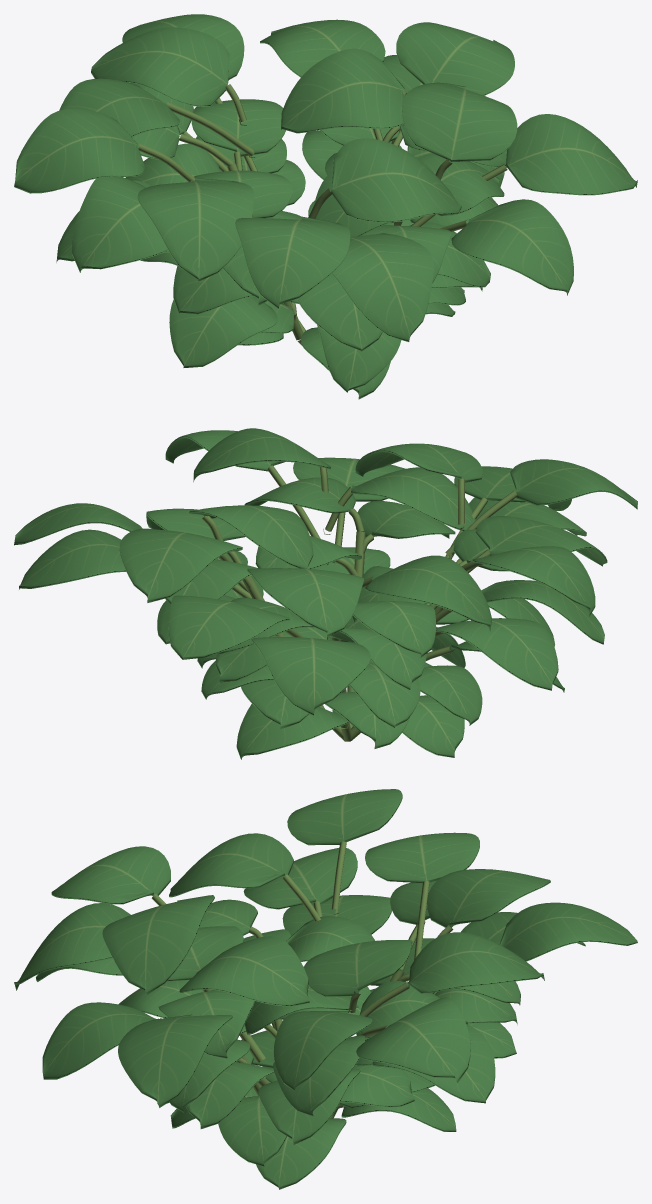
Rendered from peperomia-stage-7.glb.
3 renders of one model, top to bottom at view 1: azimuth 30°, elevation 25°; view 2: azimuth 150°, elevation 25°; view 3: azimuth 270°, elevation 25°, orthographic. The views are drawn at different scales.
Parts seen in each view (by area): view 1: Leaf_45, Leaf_50, Leaf_48, Leaf_51, Leaf_41, Leaf_49, Leaf_37, Leaf_46, Leaf_47, Leaf_32, Leaf_40, Leaf_38 (+27 smaller); view 2: Leaf_34, Leaf_43, PlantBranches, Leaf_39, Leaf_49, Leaf_35, Leaf_44, Leaf_33, Leaf_48, Leaf_42, Leaf_50, Leaf_46 (+31 smaller); view 3: Leaf_51, Leaf_37, Leaf_38, Leaf_47, Leaf_43, Leaf_39, Leaf_32, Leaf_49, Leaf_45, Leaf_46, Leaf_50, Leaf_29 (+29 smaller).
Part boxes in pixels (x1,y1,x2,y2): Leaf_45: (137, 178, 253, 281); Leaf_50: (14, 108, 145, 193); Leaf_48: (281, 48, 404, 133); Leaf_51: (331, 138, 461, 222); Leaf_41: (332, 233, 433, 341); Leaf_49: (91, 27, 229, 106); Leaf_37: (506, 114, 637, 195); Leaf_46: (235, 216, 350, 308); Leaf_47: (401, 82, 517, 161); Leaf_32: (451, 199, 573, 295); Leaf_40: (72, 177, 167, 272); Leaf_38: (396, 22, 514, 95); Leaf_34: (251, 637, 370, 715); Leaf_43: (119, 528, 242, 602); PlantBranches: (202, 465, 517, 741); Leaf_39: (168, 595, 289, 659); Leaf_49: (247, 568, 363, 636); Leaf_35: (436, 618, 558, 690); Leaf_44: (365, 555, 491, 631); Leaf_33: (19, 529, 126, 589); Leaf_48: (189, 505, 313, 568); Leaf_42: (351, 467, 475, 531); Leaf_50: (472, 546, 595, 616); Leaf_46: (510, 459, 637, 509); Leaf_51: (102, 895, 214, 994); Leaf_37: (118, 1014, 232, 1107); Leaf_38: (356, 997, 470, 1083); Leaf_47: (179, 936, 309, 1006); Leaf_43: (407, 932, 544, 993); Leaf_39: (499, 902, 637, 961); Leaf_32: (42, 1002, 158, 1079); Leaf_49: (427, 869, 550, 927); Leaf_45: (169, 833, 294, 897); Leaf_46: (51, 846, 170, 904); Leaf_50: (287, 789, 402, 845); Leaf_29: (273, 1011, 372, 1090).
Bounding box in the file's own units: 2.98 × 1.4 × 3.11.
2 materials, 1 textured.
